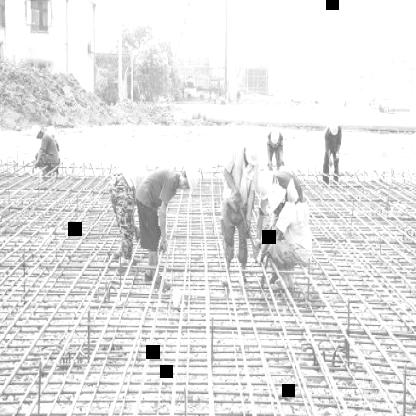helmet: (256, 167, 278, 204), (242, 137, 264, 171), (267, 186, 290, 218), (178, 166, 200, 194), (28, 121, 45, 141), (269, 126, 283, 150), (327, 117, 341, 137), (45, 124, 56, 146)
